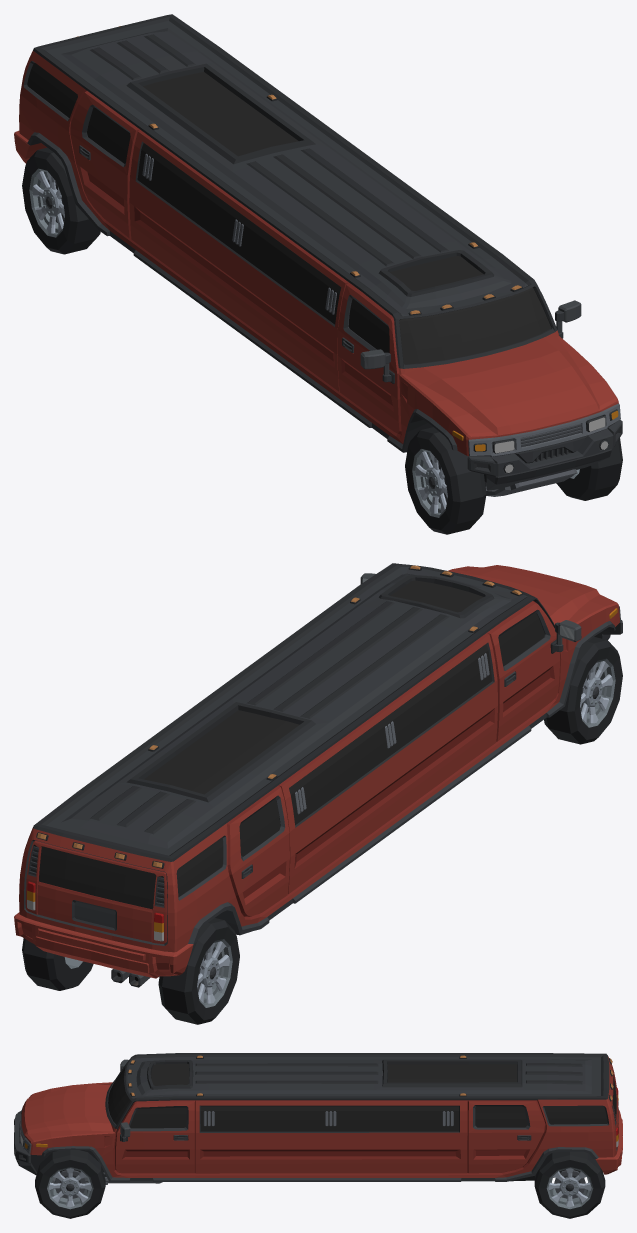
File: SM_Veh_Limousine_01.glb
3 views of the same model, one above another, from view 1: azimuth 30°, elevation 25°; view 2: azimuth 150°, elevation 25°; view 3: azimuth 270°, elevation 25° (orthographic). The views are drawn at different scales.
Parts seen in each view (by area): view 1: SM_Veh_Limousine_01, SM_Veh_Limousine_01_Glass, SM_Veh_Limousine_01_Wheel_FR, SM_Veh_Limousine_01_Door_FR, SM_Veh_Limousine_01_Door_RR, SM_Veh_Limousine_01_Wheel_RR, SM_Veh_Limousine_01_Wheel_FL, SM_Veh_Limousine_01_Door_BR_Glass, SM_Veh_Limousine_01_Door_FR_Glass; view 2: SM_Veh_Limousine_01, SM_Veh_Limousine_01_Glass, SM_Veh_Limousine_01_Door_B, SM_Veh_Limousine_01_Door_FR, SM_Veh_Limousine_01_Wheel_RR, SM_Veh_Limousine_01_Wheel_FR, SM_Veh_Limousine_01_Door_RR, SM_Veh_Limousine_01_Door_B_Glass, SM_Veh_Limousine_01_Wheel_RL, SM_Veh_Limousine_01_Door_BR_Glass, SM_Veh_Limousine_01_Door_FR_Glass; view 3: SM_Veh_Limousine_01, SM_Veh_Limousine_01_Glass, SM_Veh_Limousine_01_Door_FL, SM_Veh_Limousine_01_Door_RL, SM_Veh_Limousine_01_Wheel_FL, SM_Veh_Limousine_01_Wheel_RL, SM_Veh_Limousine_01_Door_BL_Glass, SM_Veh_Limousine_01_Door_FL_Glass, SM_Veh_Limousine_01_Door_B.
Part boxes in pixels (x1,y1,x2,y2): SM_Veh_Limousine_01: (14, 14, 622, 496); SM_Veh_Limousine_01_Glass: (27, 63, 550, 364); SM_Veh_Limousine_01_Wheel_FR: (405, 427, 486, 534); SM_Veh_Limousine_01_Door_FR: (337, 282, 401, 434); SM_Veh_Limousine_01_Door_RR: (70, 91, 139, 238); SM_Veh_Limousine_01_Wheel_RR: (22, 147, 100, 254); SM_Veh_Limousine_01_Wheel_FL: (556, 438, 622, 500); SM_Veh_Limousine_01_Door_BR_Glass: (87, 107, 130, 163); SM_Veh_Limousine_01_Door_FR_Glass: (348, 298, 389, 352); SM_Veh_Limousine_01: (14, 563, 622, 987); SM_Veh_Limousine_01_Glass: (176, 644, 492, 897); SM_Veh_Limousine_01_Door_B: (25, 840, 167, 943); SM_Veh_Limousine_01_Door_FR: (487, 601, 581, 741); SM_Veh_Limousine_01_Wheel_RR: (158, 918, 239, 1024); SM_Veh_Limousine_01_Wheel_FR: (544, 637, 622, 744); SM_Veh_Limousine_01_Door_RR: (227, 785, 289, 916); SM_Veh_Limousine_01_Door_B_Glass: (39, 846, 156, 908); SM_Veh_Limousine_01_Wheel_RL: (22, 938, 93, 990); SM_Veh_Limousine_01_Door_BR_Glass: (239, 798, 280, 856); SM_Veh_Limousine_01_Door_FR_Glass: (498, 612, 544, 666); SM_Veh_Limousine_01: (14, 1053, 622, 1184); SM_Veh_Limousine_01_Glass: (108, 1067, 607, 1131); SM_Veh_Limousine_01_Door_FL: (115, 1100, 195, 1173); SM_Veh_Limousine_01_Door_RL: (467, 1100, 545, 1173); SM_Veh_Limousine_01_Wheel_FL: (35, 1150, 105, 1218); SM_Veh_Limousine_01_Wheel_RL: (534, 1151, 605, 1218); SM_Veh_Limousine_01_Door_BL_Glass: (475, 1106, 527, 1127); SM_Veh_Limousine_01_Door_FL_Glass: (130, 1107, 186, 1128); SM_Veh_Limousine_01_Door_B: (611, 1064, 618, 1149).
Size of the model in its own units: 2.78 by 2.28 by 10.3.
1 material, 1 textured.
